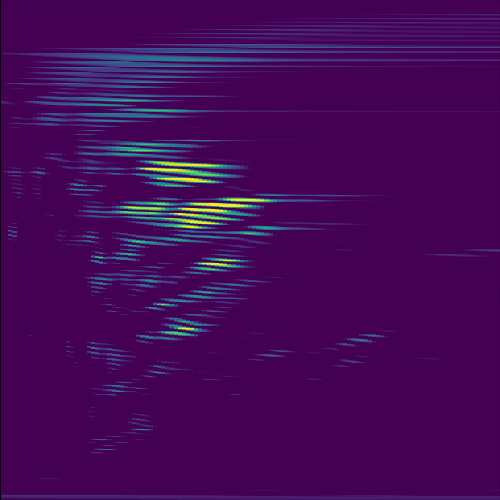semblance: (166, 194, 283, 235), (133, 159, 244, 191)
